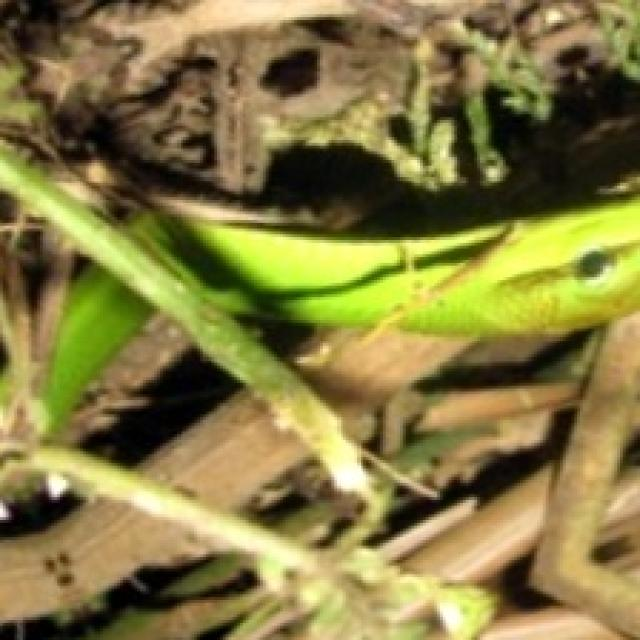red-tailed green ratsnake: (132, 198, 640, 334), (49, 269, 150, 419)
